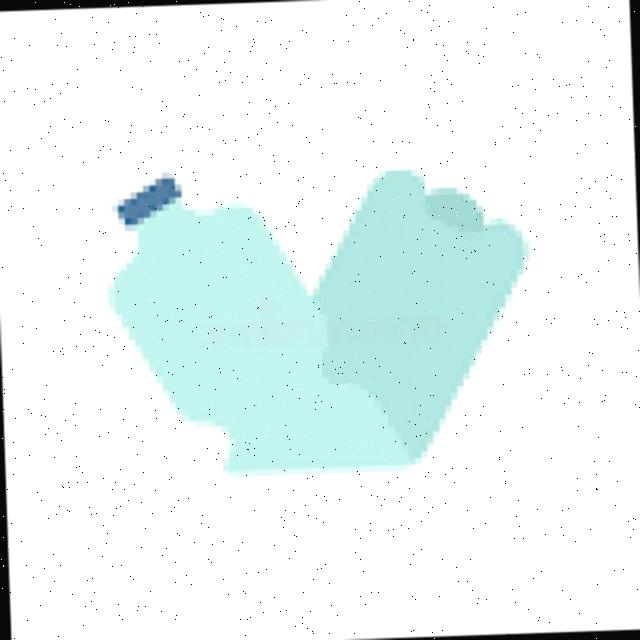bottle: (90, 131, 562, 511)
cap: (104, 161, 192, 235)
